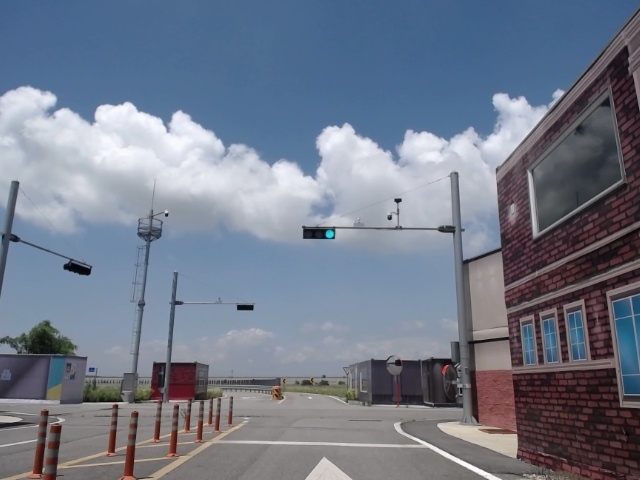green_3: (304, 229, 335, 237)
